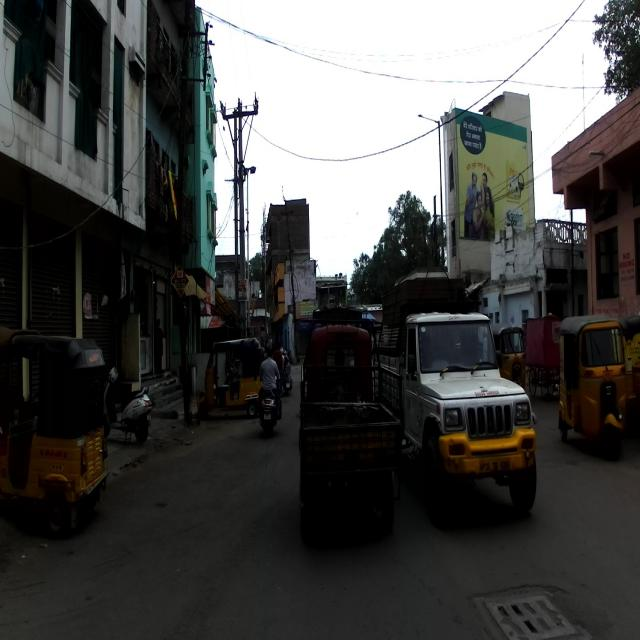autorickshaw: (297, 303, 401, 539), (0, 325, 110, 537), (557, 317, 629, 459), (197, 336, 264, 422)
scooter: (103, 364, 152, 444)
truck: (379, 264, 537, 526)
